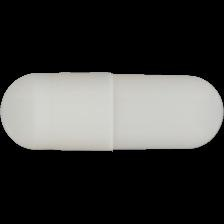54868-5231: (0, 0, 224, 224)
